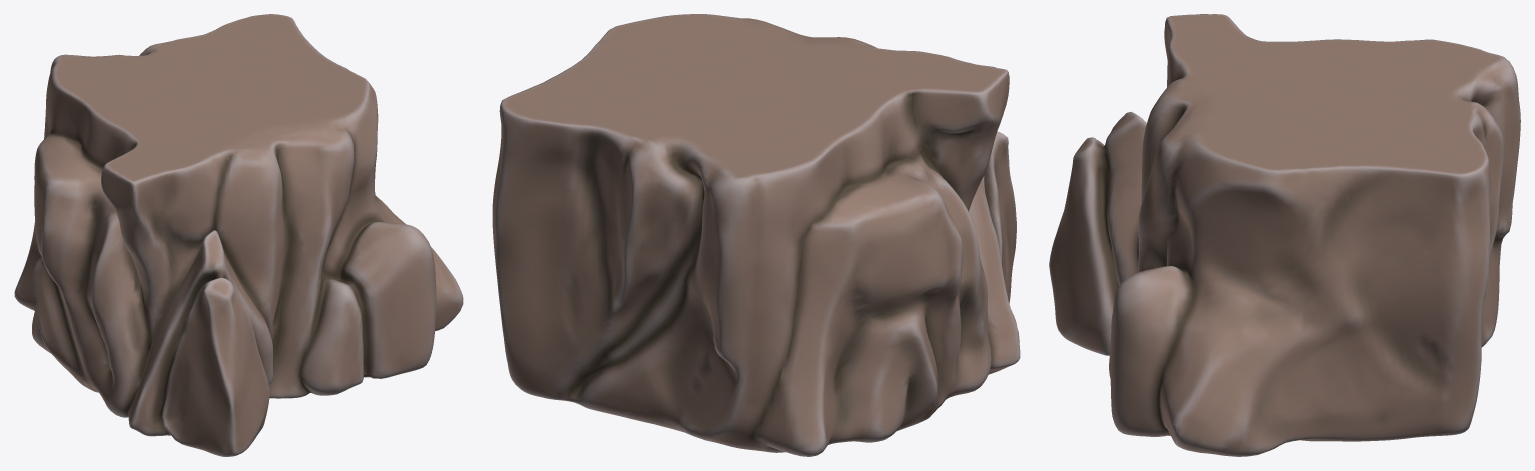
The model's file is SM_floor_rock.fbx.
The picture shows the model from 3 angles, left to right: view 1: azimuth 30°, elevation 25°; view 2: azimuth 150°, elevation 25°; view 3: azimuth 270°, elevation 25°; orthographic projection. The views are drawn at different scales.
Parts seen in each view (by area): view 1: Merged_PM3D_Cube3D_6; view 2: Merged_PM3D_Cube3D_6; view 3: Merged_PM3D_Cube3D_6.
Part boxes in pixels (box(x1,y1,x2,y2)): Merged_PM3D_Cube3D_6: box(14, 14, 463, 456); Merged_PM3D_Cube3D_6: box(492, 14, 1020, 456); Merged_PM3D_Cube3D_6: box(1049, 14, 1520, 456).
Size of the model in its own units: 150 by 102 by 150.
